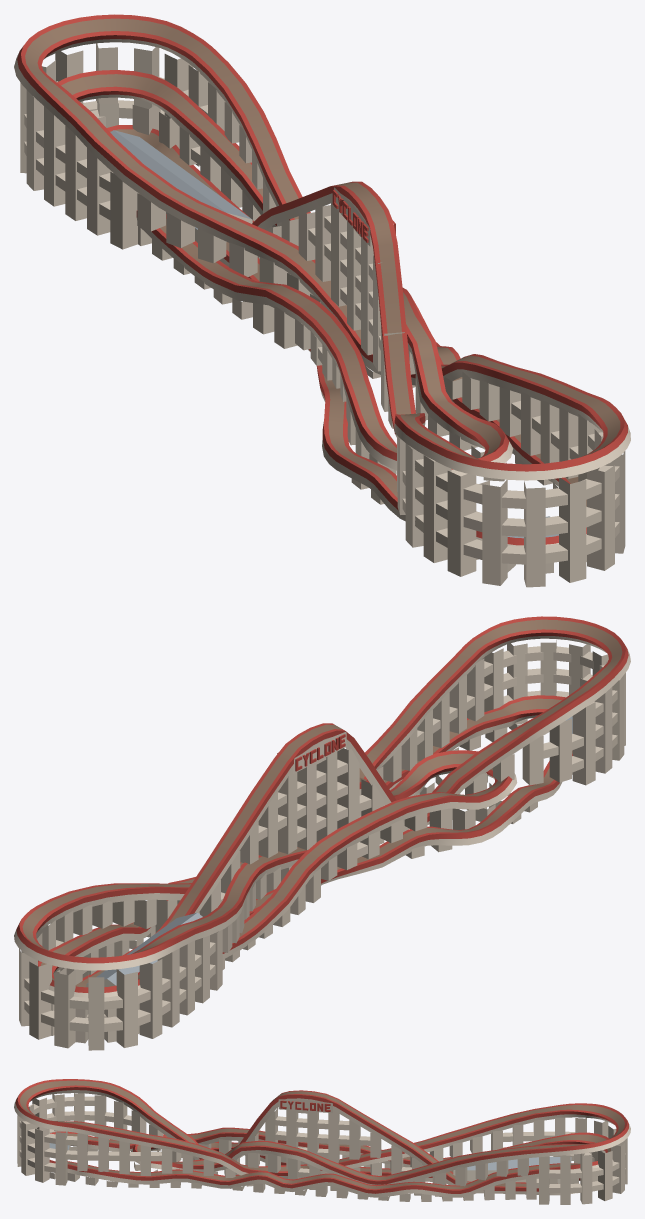
The model's file is coney-island-cyclone.glb.
The picture shows the model from 3 angles, top to bottom: view 1: azimuth 30°, elevation 25°; view 2: azimuth 150°, elevation 25°; view 3: azimuth 270°, elevation 25°; orthographic projection. The views are drawn at different scales.
Parts seen in each view (by area): view 1: Coney Island Cyclone; view 2: Coney Island Cyclone; view 3: Coney Island Cyclone.
Boxes of the visible parts, bbox=[...] form: Coney Island Cyclone: bbox=[14, 14, 630, 587]; Coney Island Cyclone: bbox=[14, 616, 630, 1050]; Coney Island Cyclone: bbox=[14, 1079, 630, 1204].
Bounding box in the file's own units: 36.31 × 23.05 × 146.
